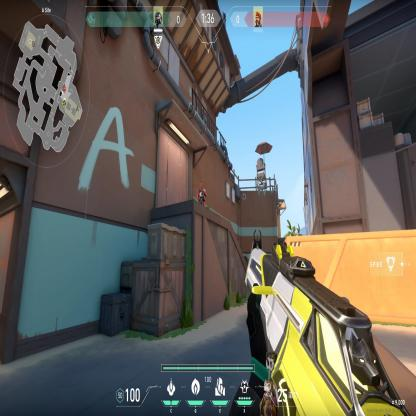enemy: (196, 181, 206, 207)
